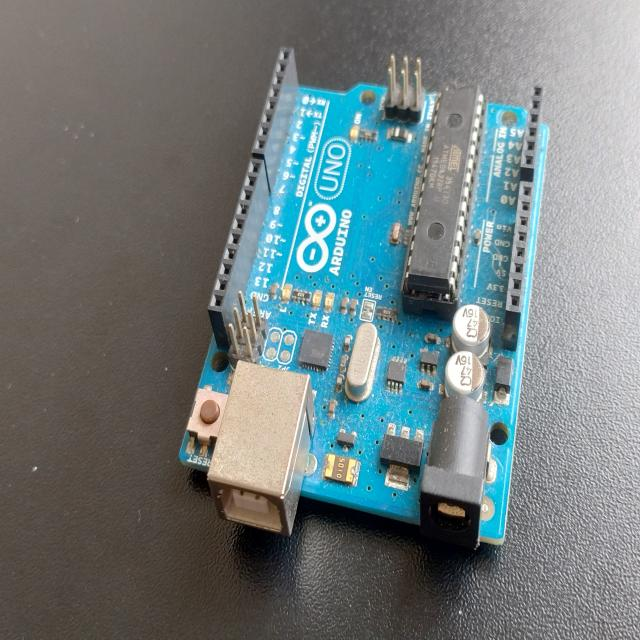arduino: (187, 34, 552, 559)
